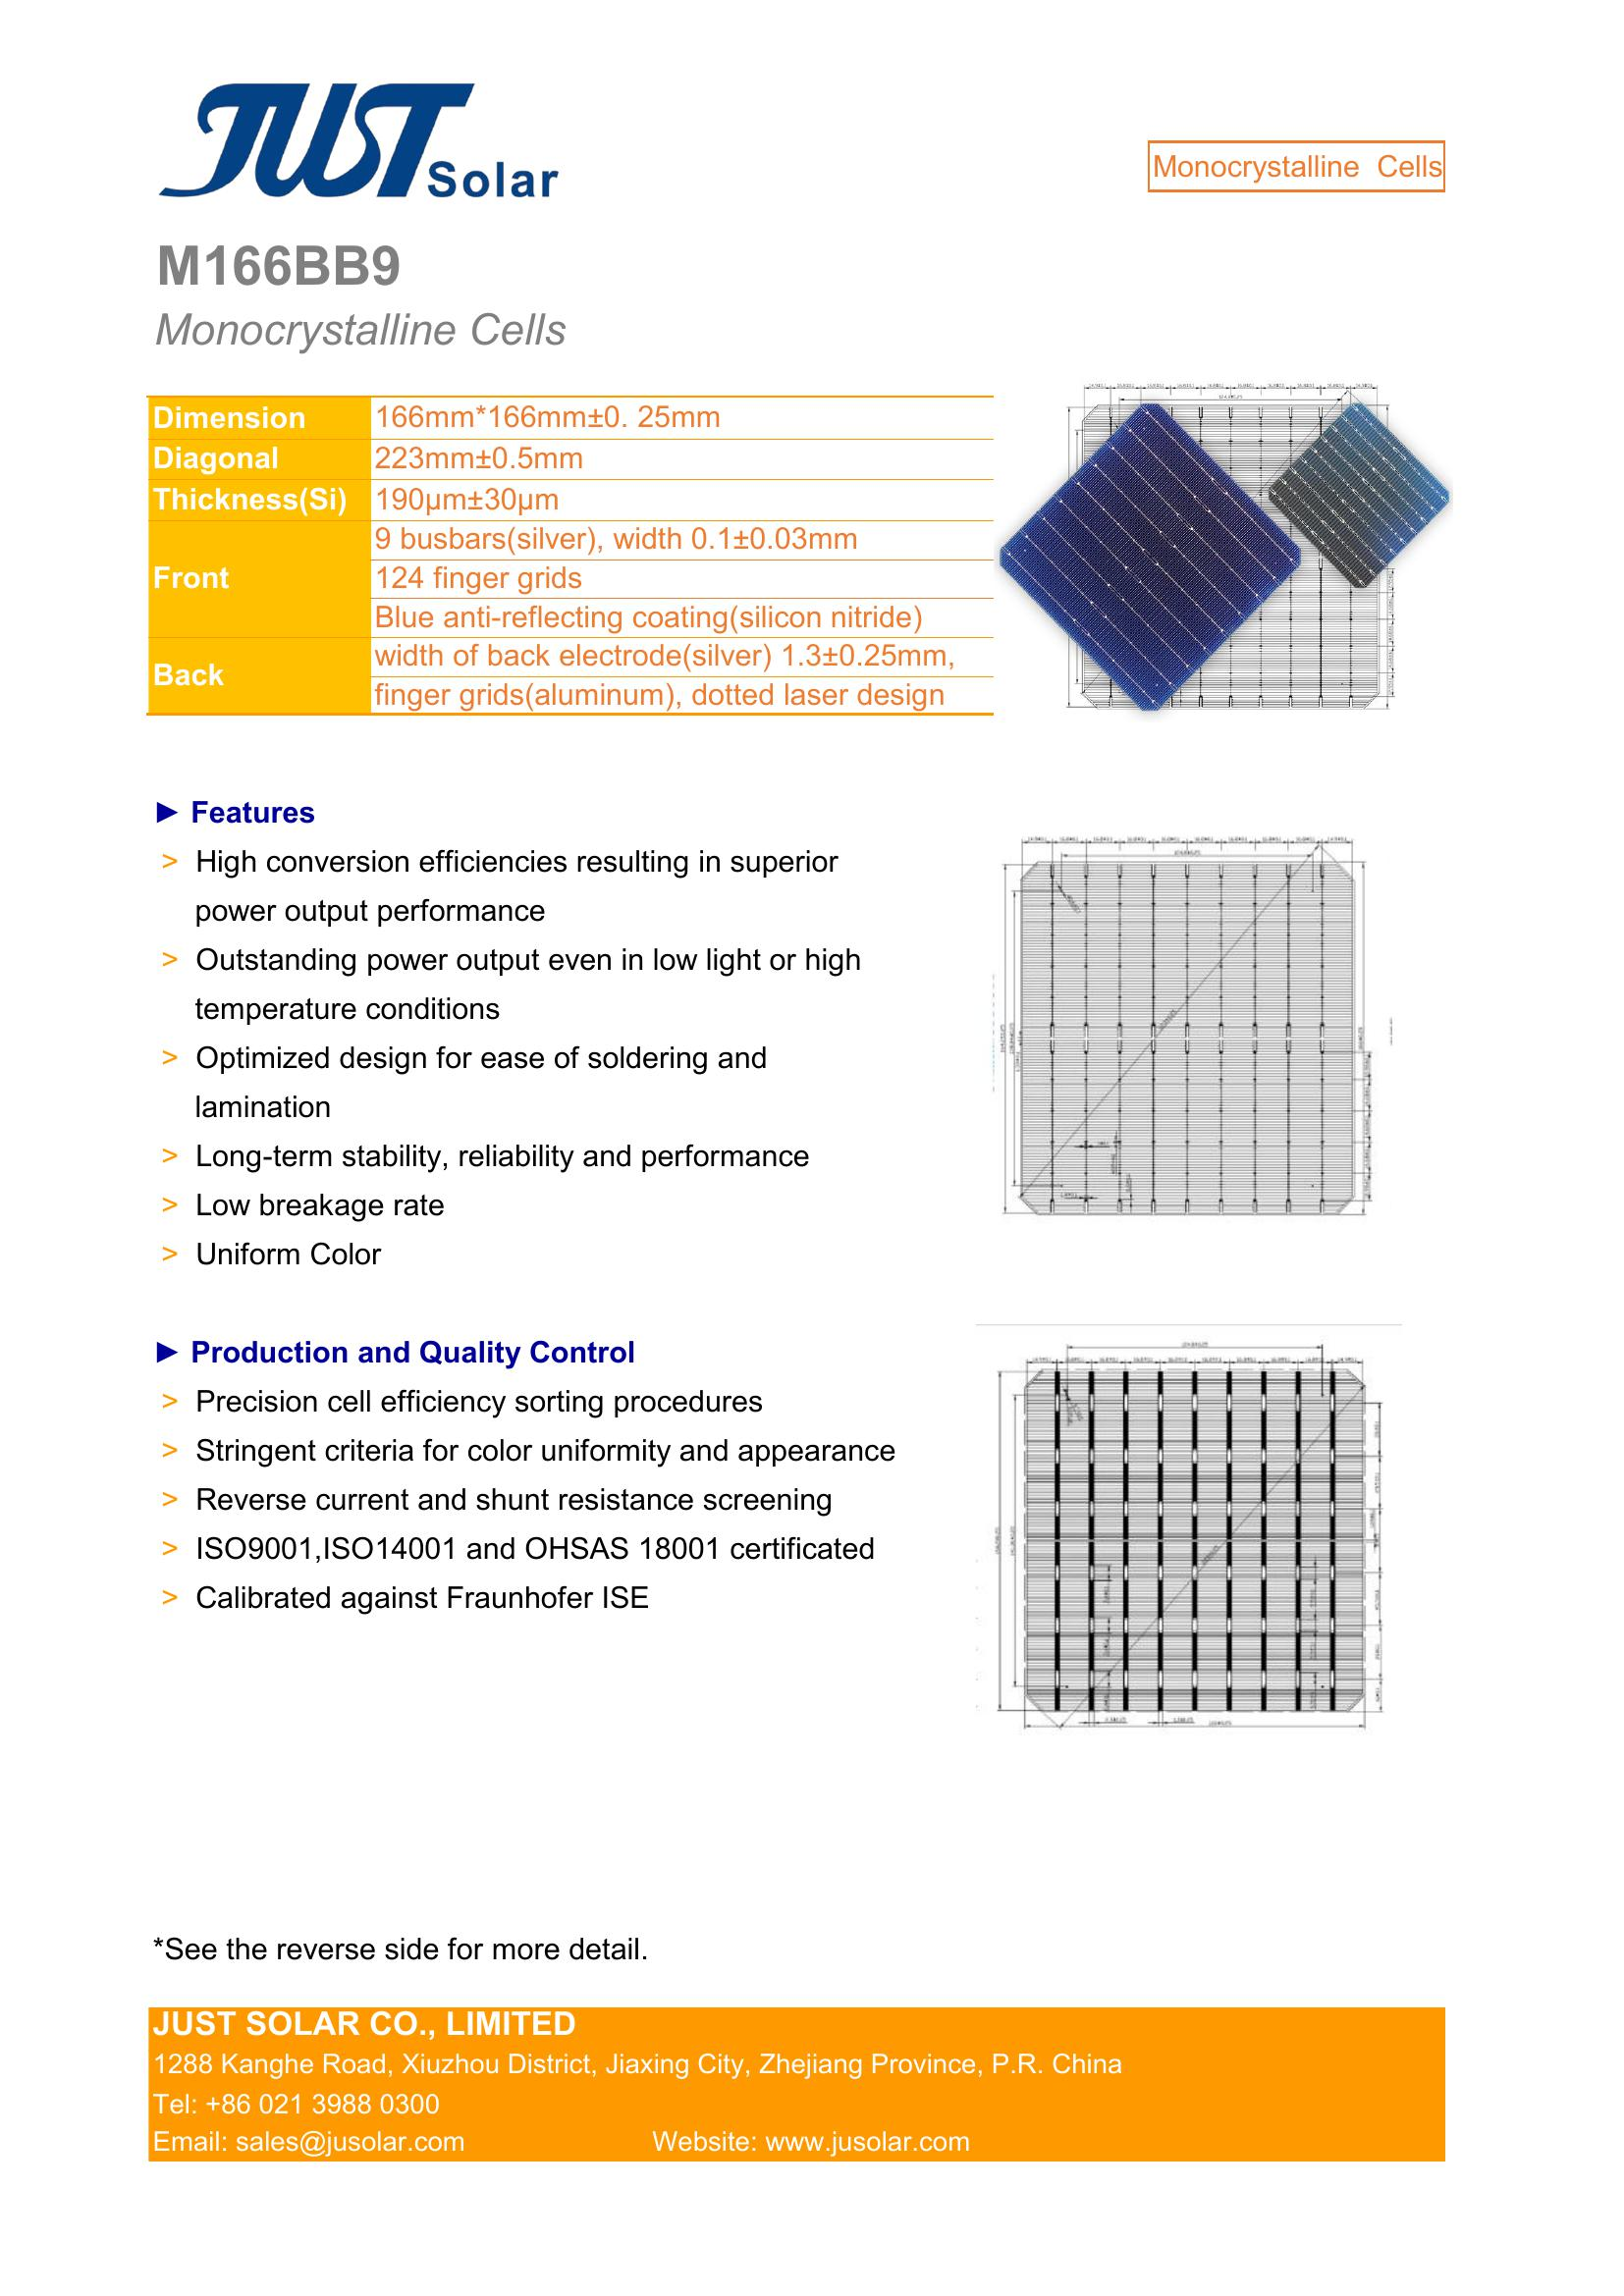table: (139, 385, 1016, 733)
